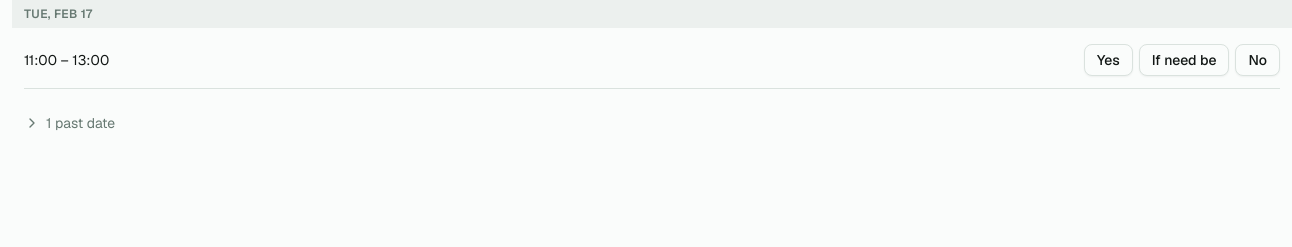
Test case: AvailabilityForm – past/future partitioning › shows existing responses on read-only past slots
The width and height of the screenshot is (1292, 247).
Click the button "1 past date": (70, 123) [12,105,127,141]
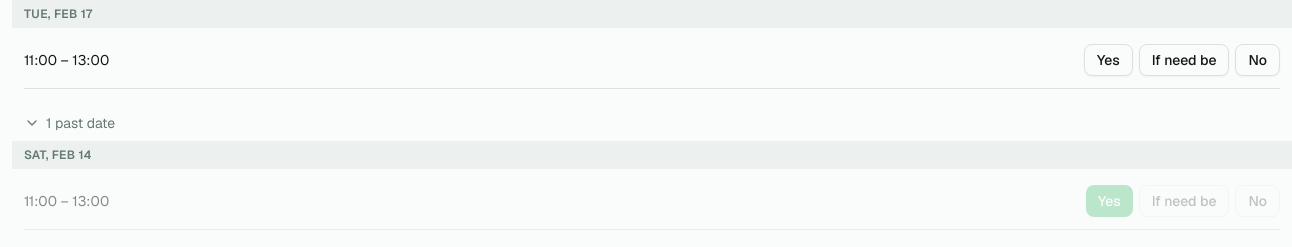
Now the number of buttons "Yes" is 2, box [1084,44,1133,76]; [1086,185,1133,217]
Now the 2nd button "Yes" is disabled, box [1086,185,1133,217]
